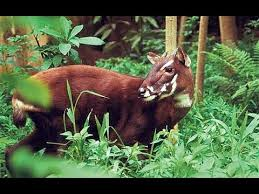sao_la: (10, 46, 195, 169)
